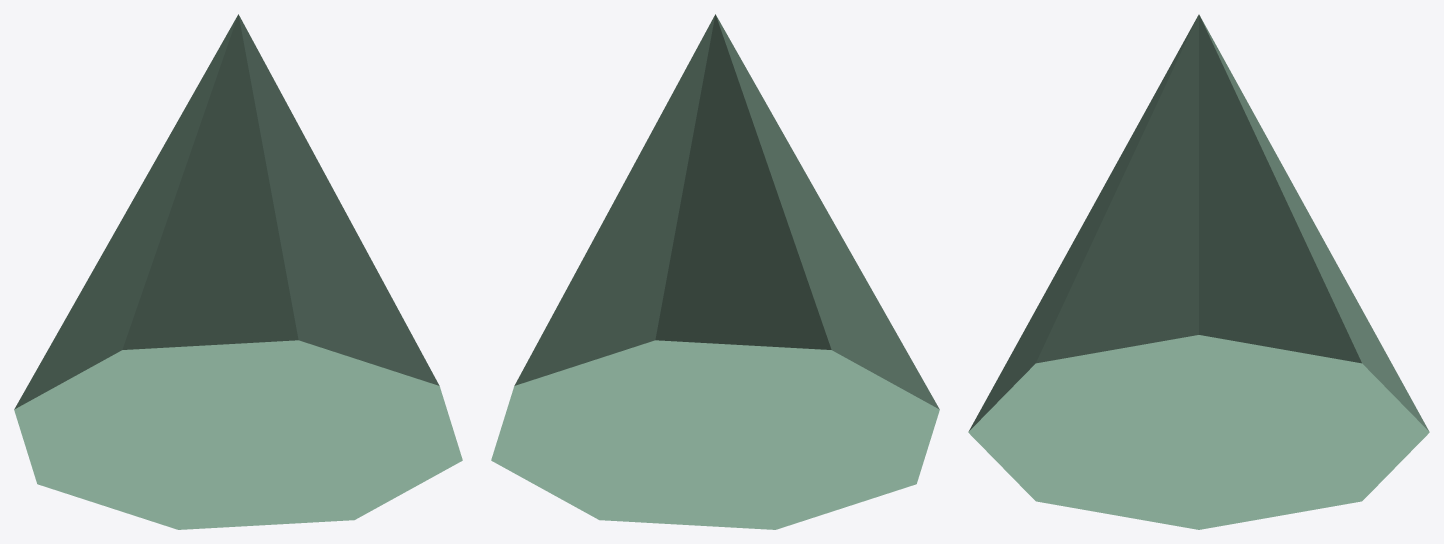
The model's file is tree_pine_01.glb.
3 renders of one model, left to right at view 1: azimuth 30°, elevation 25°; view 2: azimuth 150°, elevation 25°; view 3: azimuth 270°, elevation 25°, orthographic.
Parts seen in each view (by area): view 1: 松树; view 2: 松树; view 3: 松树.
Boxes of the visible parts, box(x1,y1,x2,y2) form: 松树: box(14, 14, 462, 529); 松树: box(491, 14, 939, 529); 松树: box(968, 14, 1429, 529).
Bounding box in the file's own units: 1 × 1 × 1.
